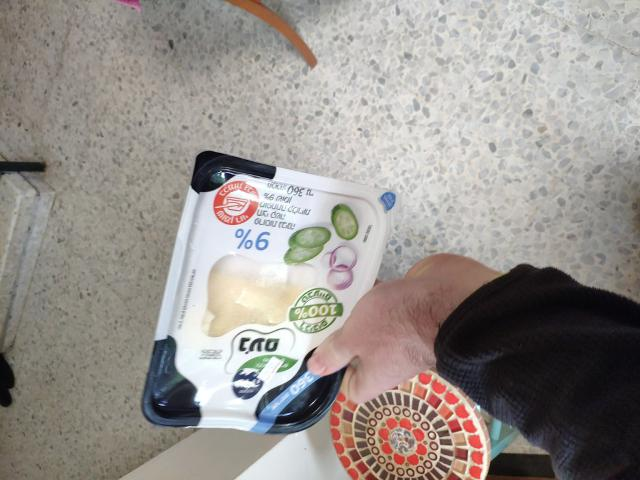cheese: (163, 146, 369, 451)
